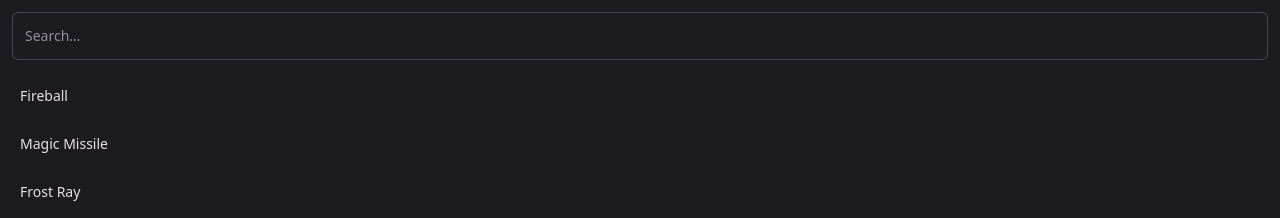
SearchList › filters items by search query
Type "fire" into the search field with placeholder "Search…".
click(640, 36); type("fire")  # box [12,12,1268,60]
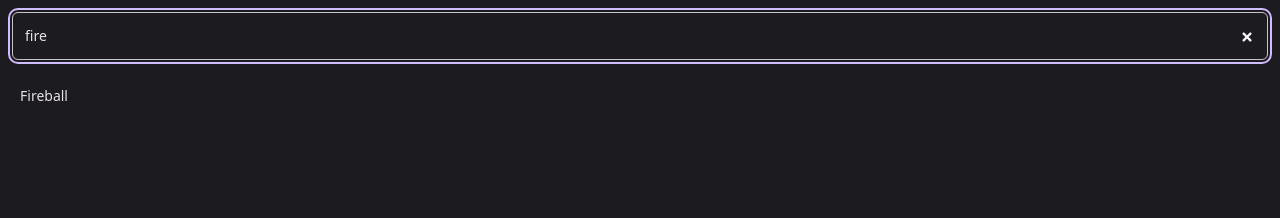
Expected: the text "Fireball" is shown, [20,86,68,106]
Now the button "Magic Missile" is gone
